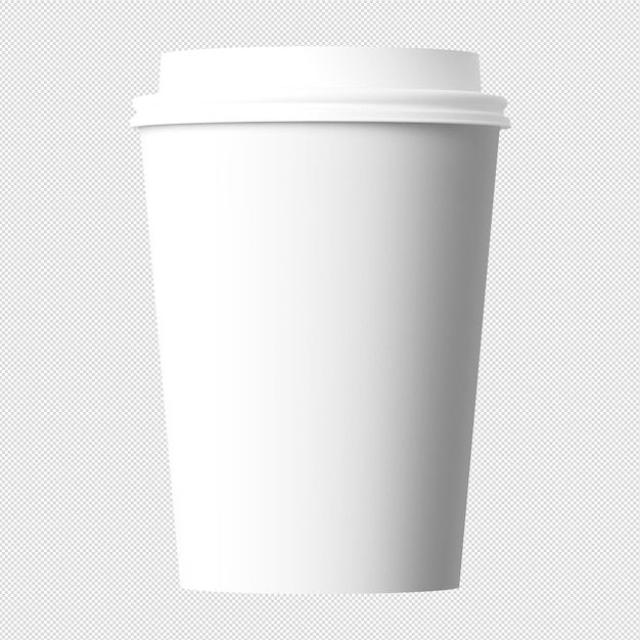paper cup: (130, 45, 510, 592)
